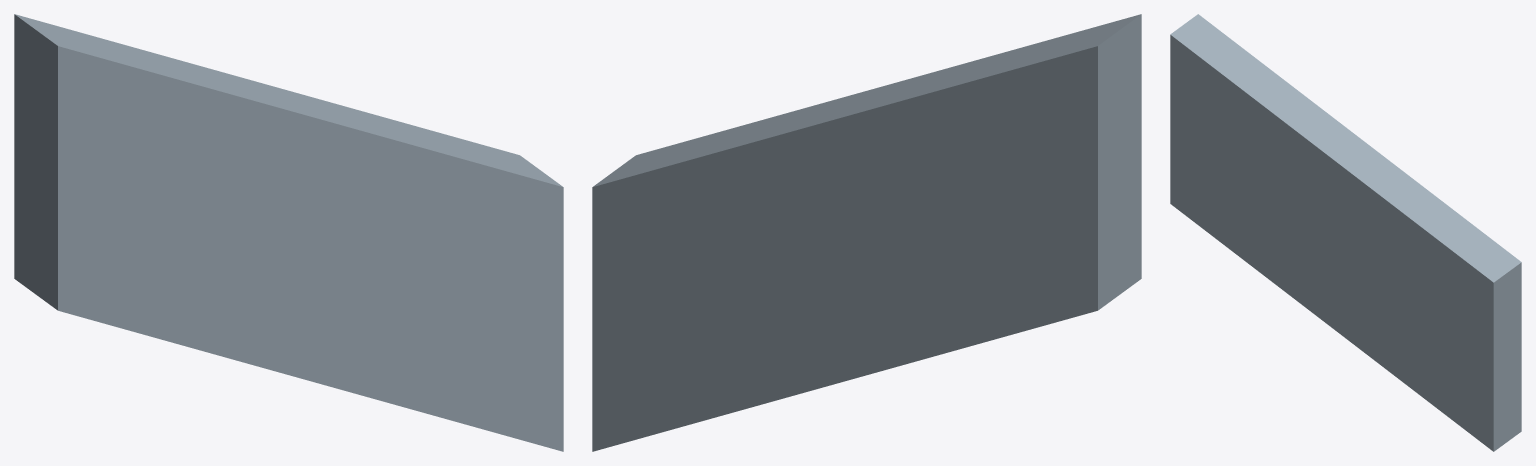
Rendered from SM_Wall_2M_low_Ramp_1v.fbx.
The picture shows the model from 3 angles, left to right: view 1: azimuth 30°, elevation 25°; view 2: azimuth 150°, elevation 25°; view 3: azimuth 330°, elevation 25°; orthographic projection. The views are drawn at different scales.
Parts seen in each view (by area): view 1: SM_Wall_2M_low_Ramp_1v; view 2: SM_Wall_2M_low_Ramp_1v; view 3: SM_Wall_2M_low_Ramp_1v.
Part boxes in pixels (x1,y1,x2,y2): SM_Wall_2M_low_Ramp_1v: [14, 14, 563, 451]; SM_Wall_2M_low_Ramp_1v: [592, 14, 1141, 451]; SM_Wall_2M_low_Ramp_1v: [1170, 14, 1521, 451].
Size of the model in its own units: 200 by 200 by 30.
